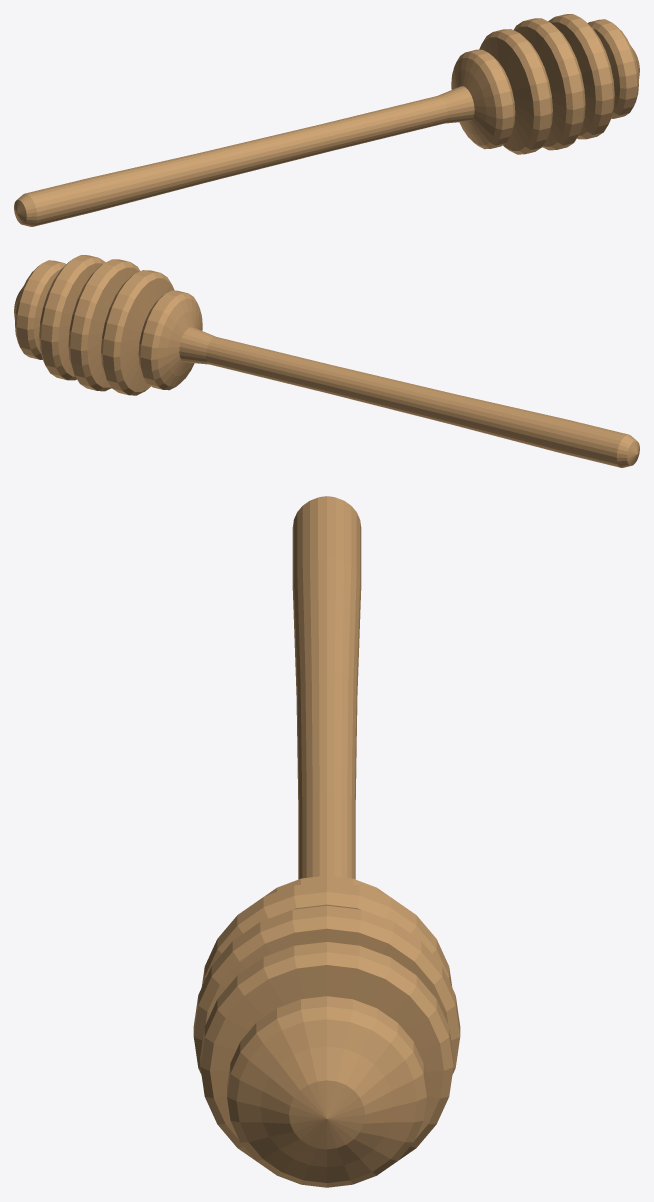
Rendered from NEW_RECOVERY_091_LOD1.fbx.
3 views of the same model, one above another, from view 1: azimuth 30°, elevation 25°; view 2: azimuth 150°, elevation 25°; view 3: azimuth 270°, elevation 25° (orthographic). The views are drawn at different scales.
Parts seen in each view (by area): view 1: Honey dipper; view 2: Honey dipper; view 3: Honey dipper.
Boxes of the visible parts, x1,y1,x2,y2 form: Honey dipper: [14, 14, 639, 226]; Honey dipper: [14, 255, 639, 467]; Honey dipper: [193, 496, 460, 1187].
Bounding box in the file's own units: 15 × 2.8 × 2.8.
